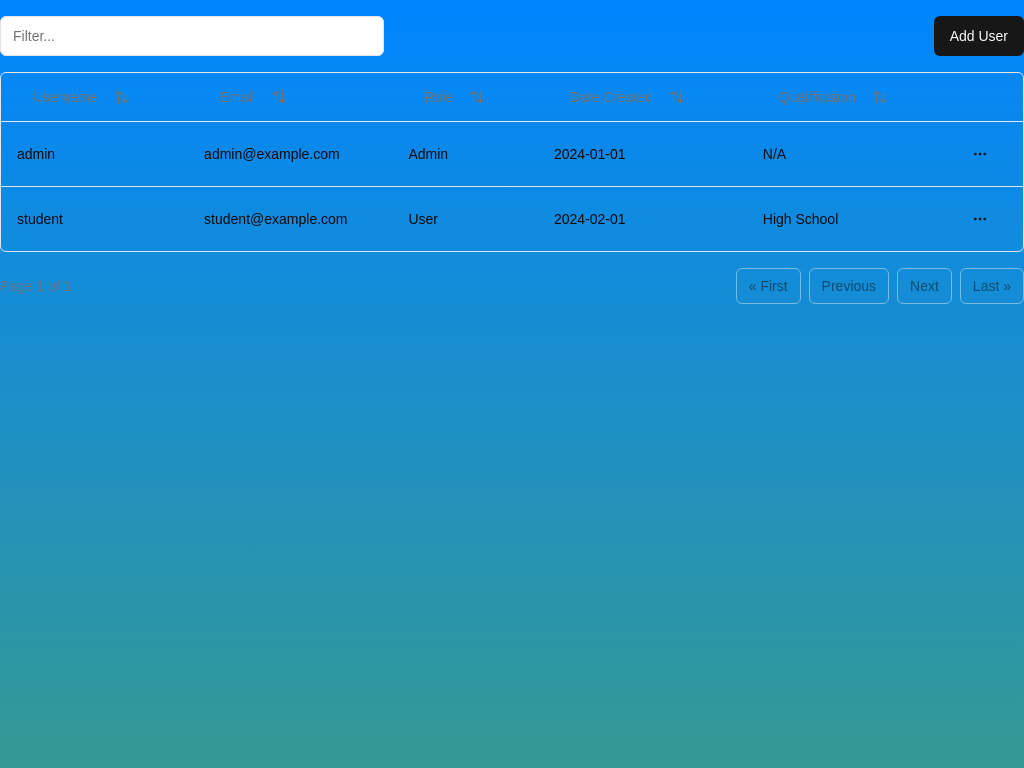
Test: Users Data Table › opens add user dialog on button click
Click the button "Add User": (979, 36) x1=934 y1=16 x2=1023 y2=56
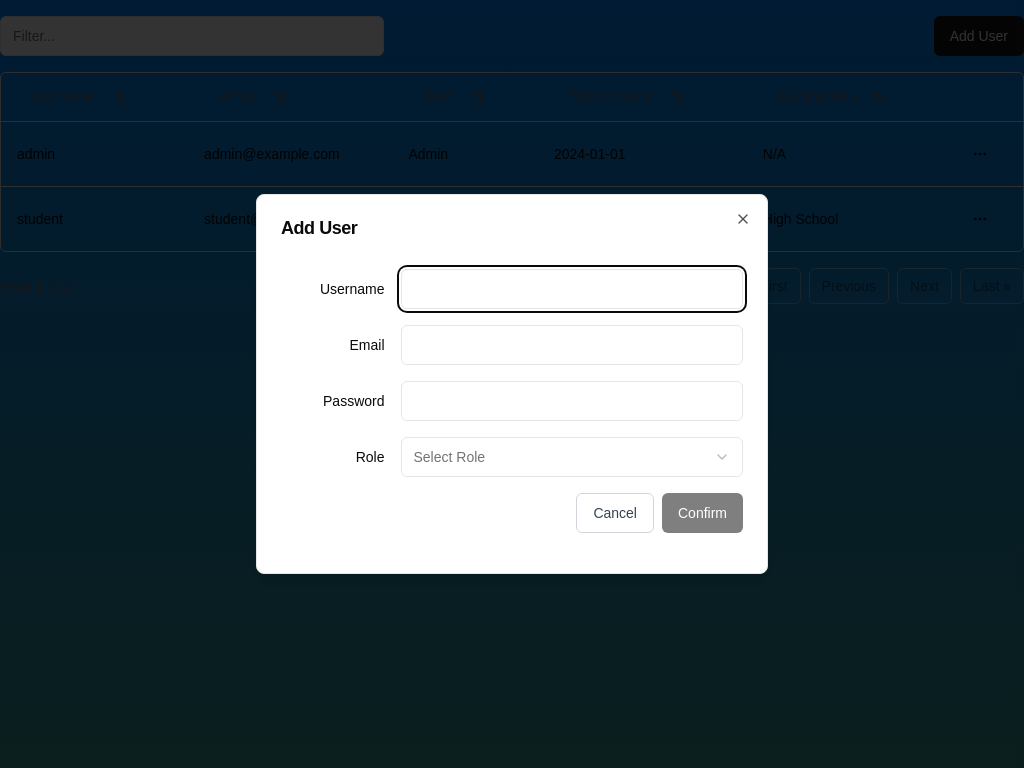
Result: the heading "Add User" is shown at x1=281 y1=218 x2=357 y2=238
Result: the field labelled "Username" is shown at x1=400 y1=269 x2=743 y2=309
Result: the password field labelled "Password" is shown at x1=400 y1=381 x2=743 y2=421
